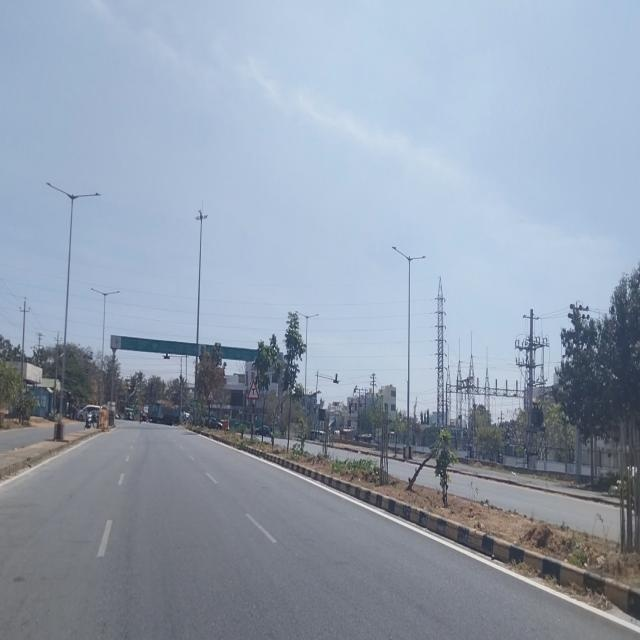bien_nguy_hiem: (247, 380, 259, 400)
